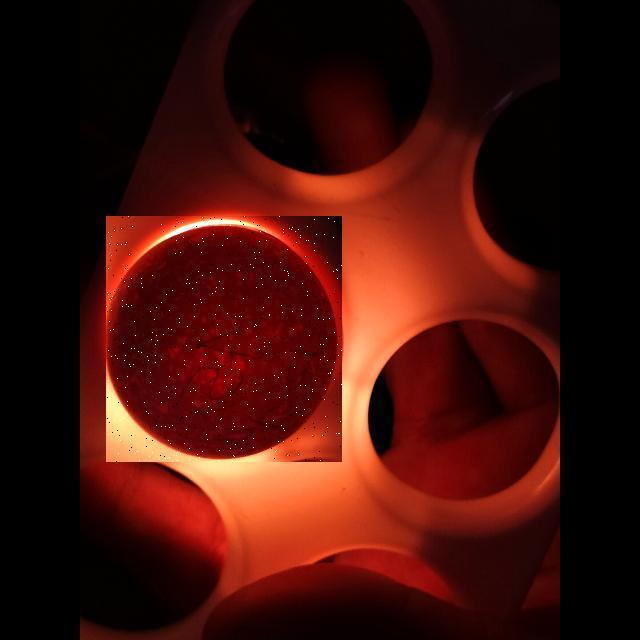A - Good: (103, 216, 343, 461)
